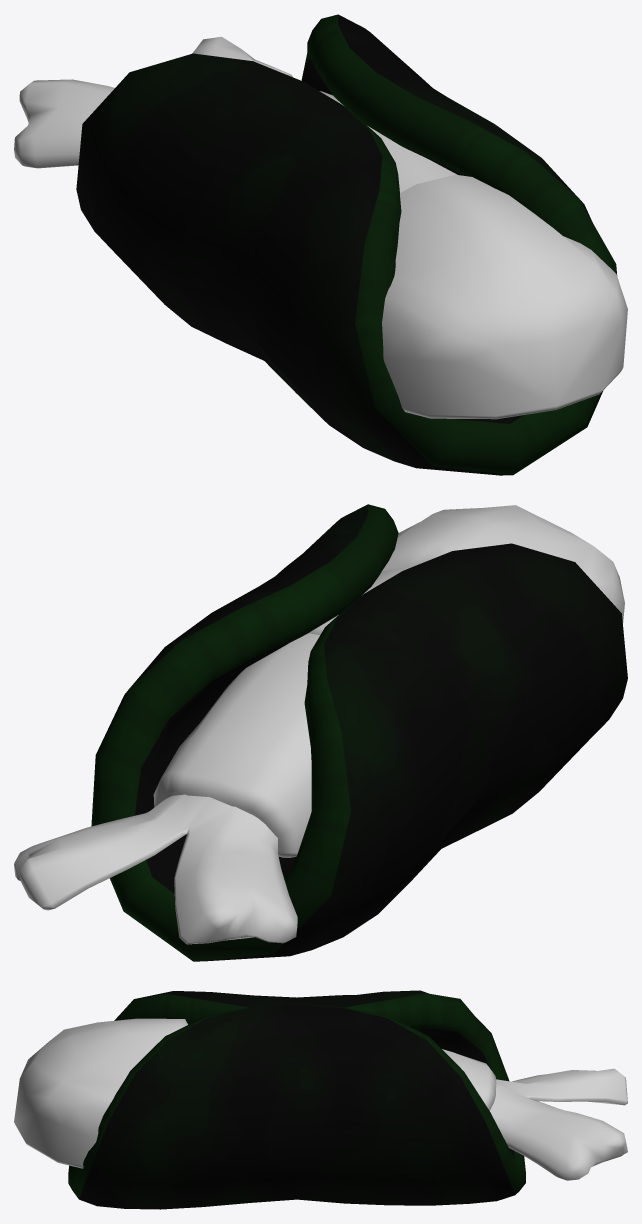
Rendered from m_plated_sushi_wrong_01.fbx.
3 views of the same model, one above another, from view 1: azimuth 30°, elevation 25°; view 2: azimuth 150°, elevation 25°; view 3: azimuth 270°, elevation 25° (orthographic). The views are drawn at different scales.
Parts seen in each view (by area): view 1: m_plated_sushi_wrong_01_0, m_plated_sushi_wrong_01_1; view 2: m_plated_sushi_wrong_01_0, m_plated_sushi_wrong_01_1; view 3: m_plated_sushi_wrong_01_0, m_plated_sushi_wrong_01_1.
Part boxes in pixels (<box>): m_plated_sushi_wrong_01_0: <box>76,14,617,475</box>; m_plated_sushi_wrong_01_1: <box>14,36,627,419</box>; m_plated_sushi_wrong_01_0: <box>91,504,627,961</box>; m_plated_sushi_wrong_01_1: <box>14,505,624,944</box>; m_plated_sushi_wrong_01_0: <box>68,990,525,1209</box>; m_plated_sushi_wrong_01_1: <box>14,1018,627,1180</box>.
Bounding box in the file's own units: 0.3803 × 0.374 × 0.9953.
